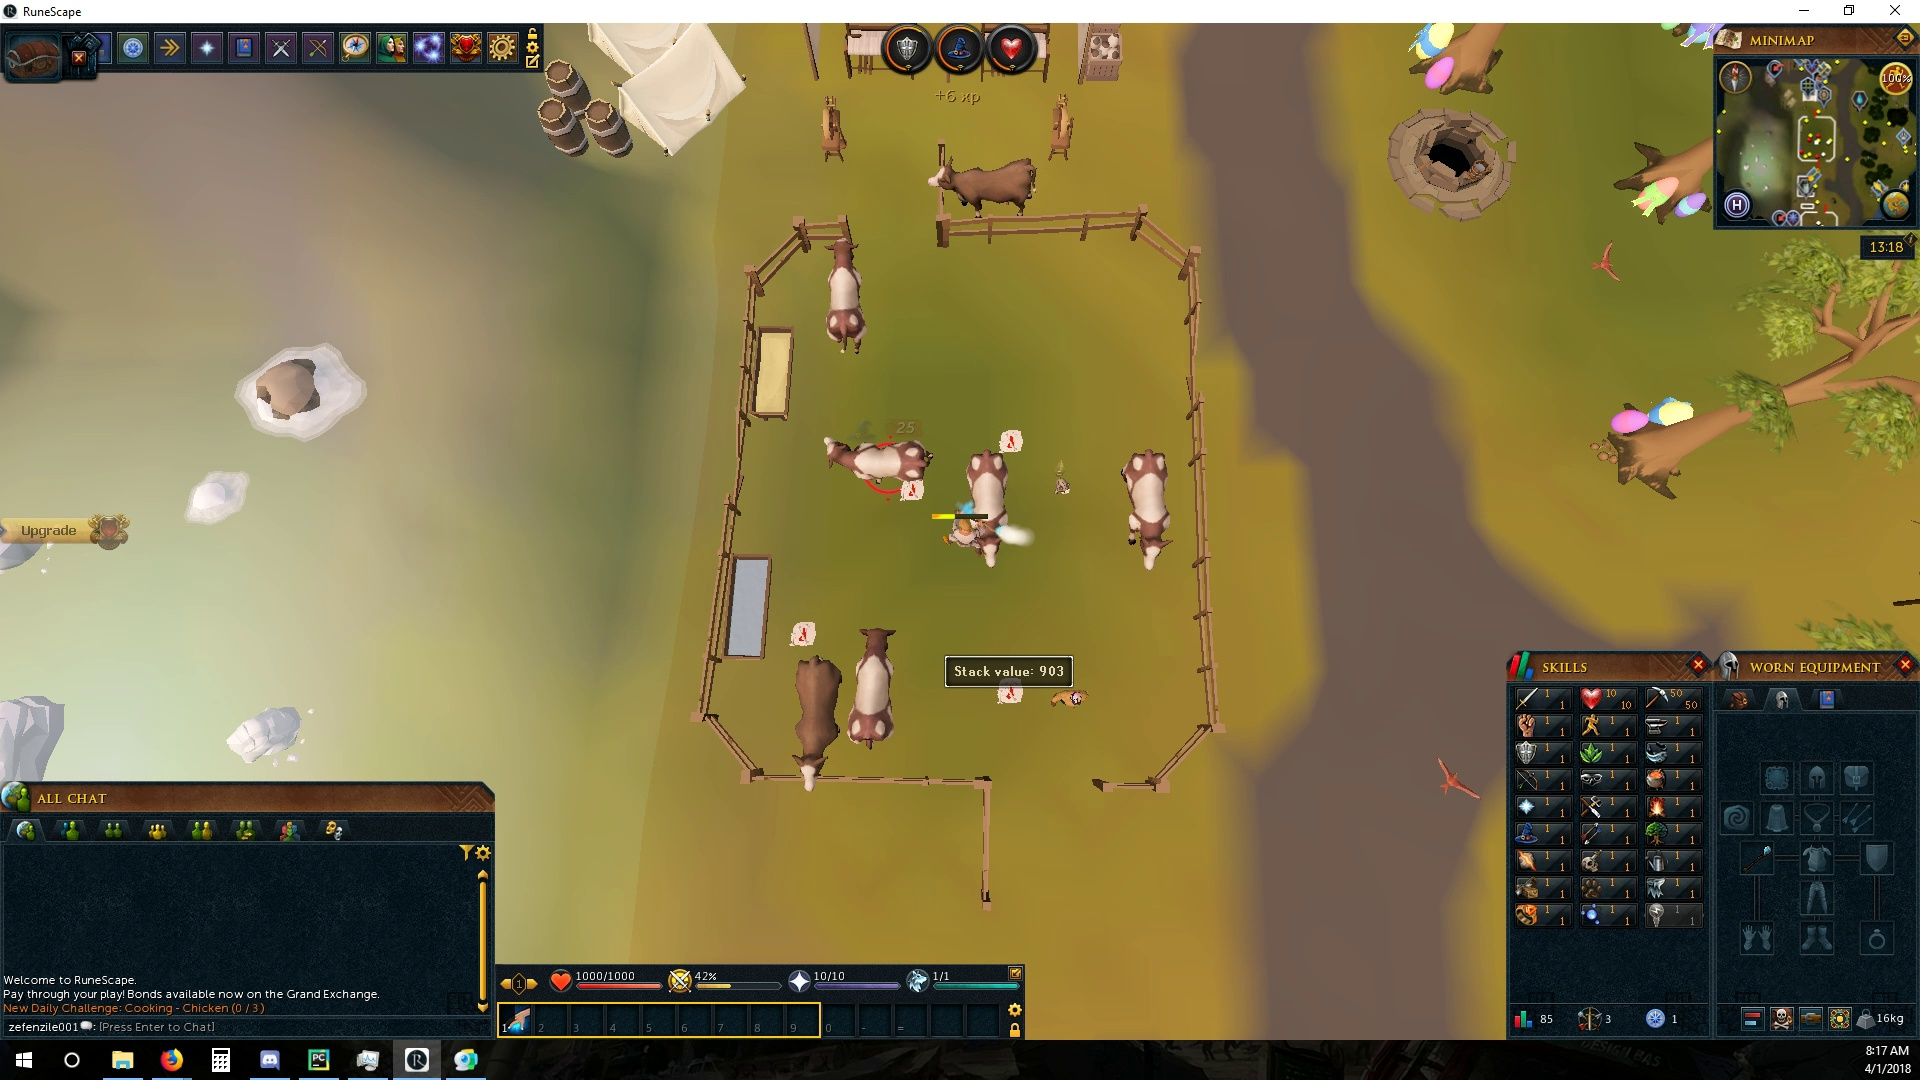cow: (789, 654, 843, 796), (1120, 443, 1178, 574), (844, 622, 901, 748), (928, 153, 1038, 218), (961, 448, 1011, 574), (822, 433, 938, 487), (822, 237, 869, 357)
cow_drop: (897, 476, 927, 505), (997, 426, 1026, 455), (789, 621, 818, 647), (994, 680, 1029, 702)
